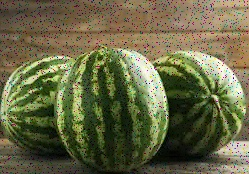watermelon: (57, 45, 168, 167), (1, 50, 83, 159), (167, 52, 246, 163)
